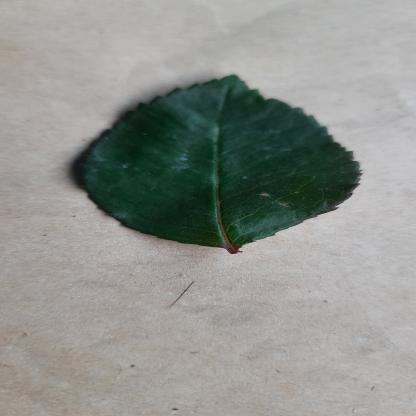normal: (70, 70, 368, 252)
